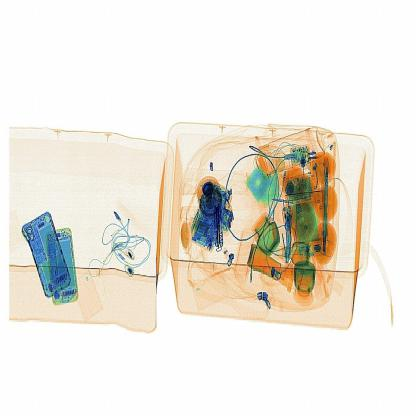scissors: (210, 200, 234, 260)
